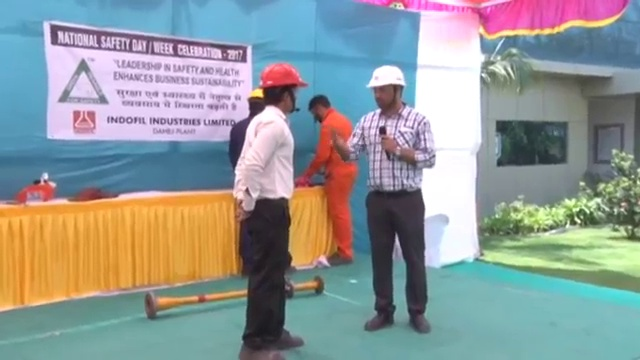helmet: (256, 62, 313, 89), (364, 64, 407, 88), (246, 86, 267, 100)
helmet_off: (306, 93, 334, 125)
helmet_on: (257, 62, 311, 119), (364, 63, 409, 121), (243, 85, 268, 123)
person: (334, 64, 437, 335), (235, 64, 307, 359), (303, 91, 356, 266), (229, 87, 269, 172)
